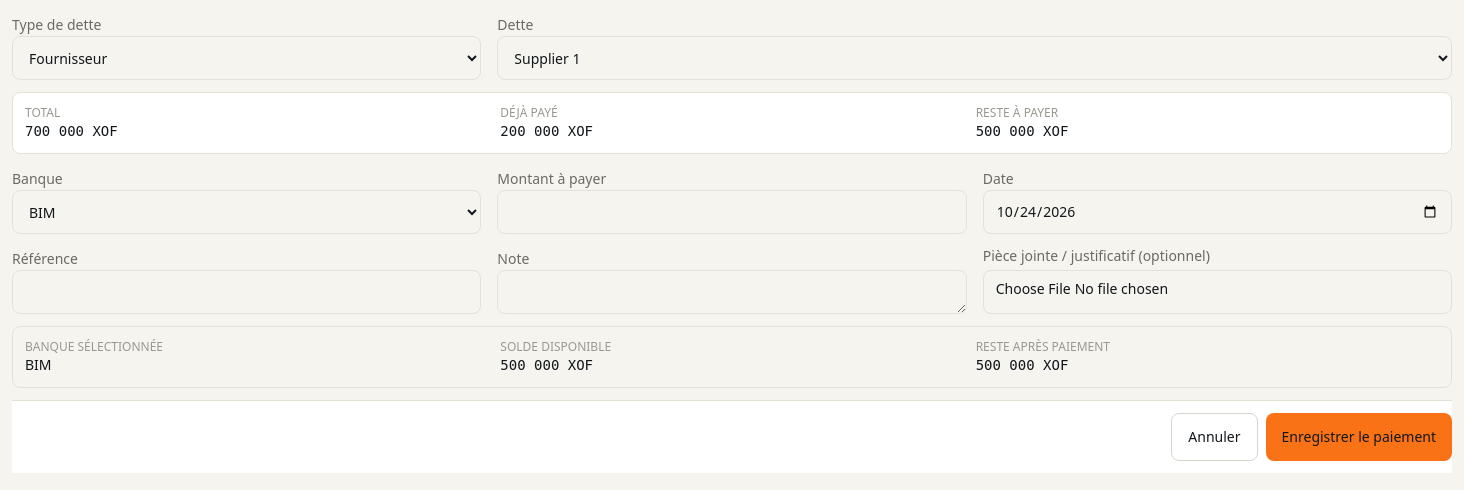
Test: DebtPaymentForm › shows a clear empty-debt message after switching to a type without open debts
This screenshot has width=1464, height=490.
Select "Transporteur" in the dropdown labelled "Type de dette" at (247, 58), box top-left (12, 36), bottom-right (481, 80)
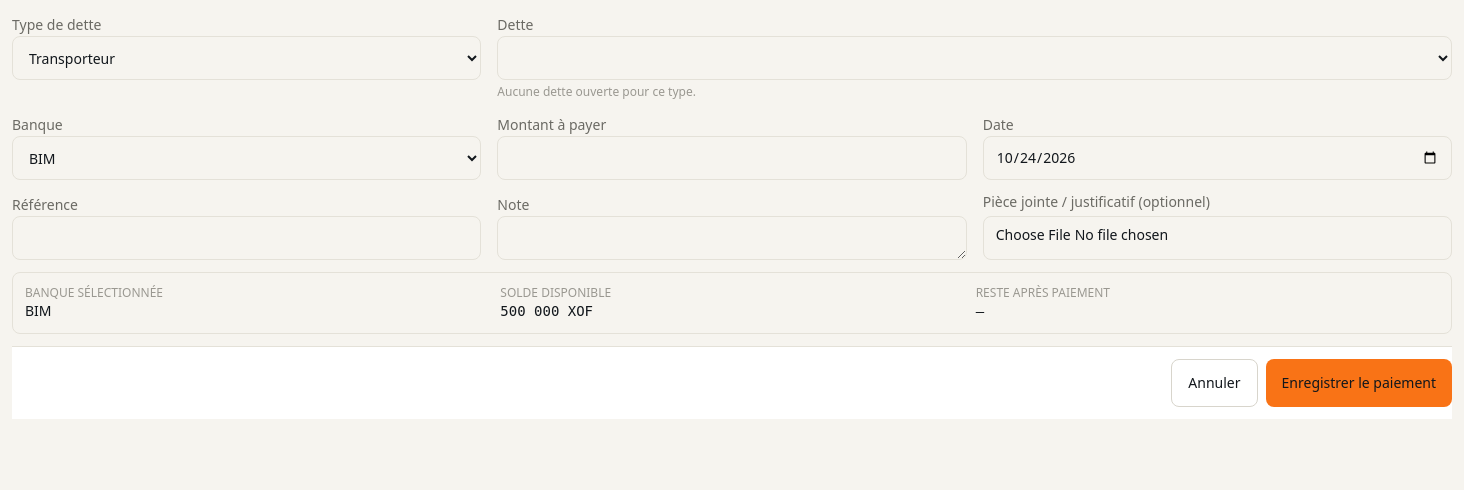
Now the dropdown with id "debt" is disabled, box top-left (497, 36), bottom-right (1452, 80)
Now the text "Aucune dette ouverte pour ce type." is shown, box top-left (497, 83), bottom-right (696, 100)
